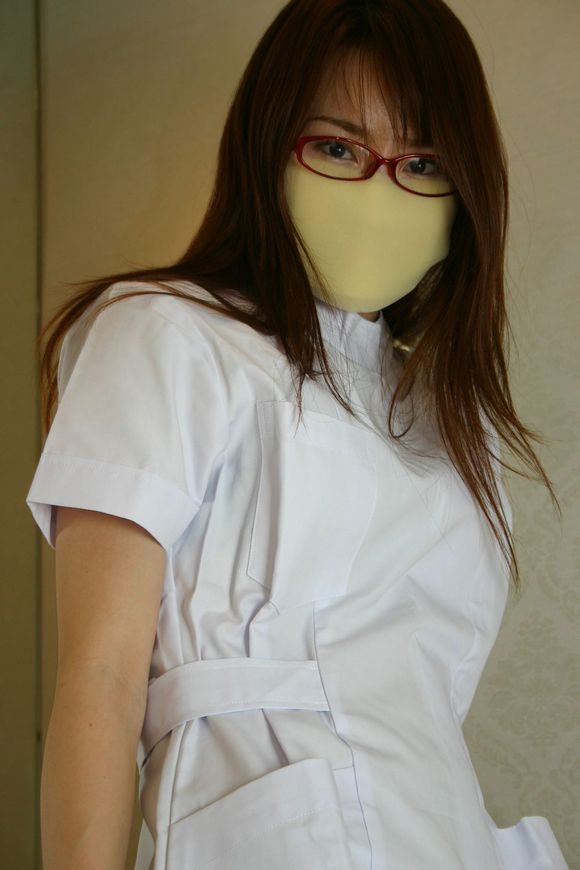face_mask: (289, 40, 449, 306)
